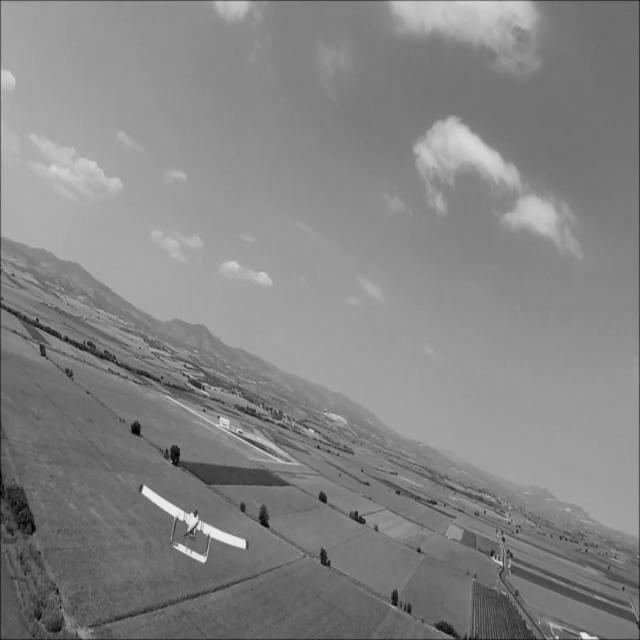iha: (169, 508, 219, 527)
